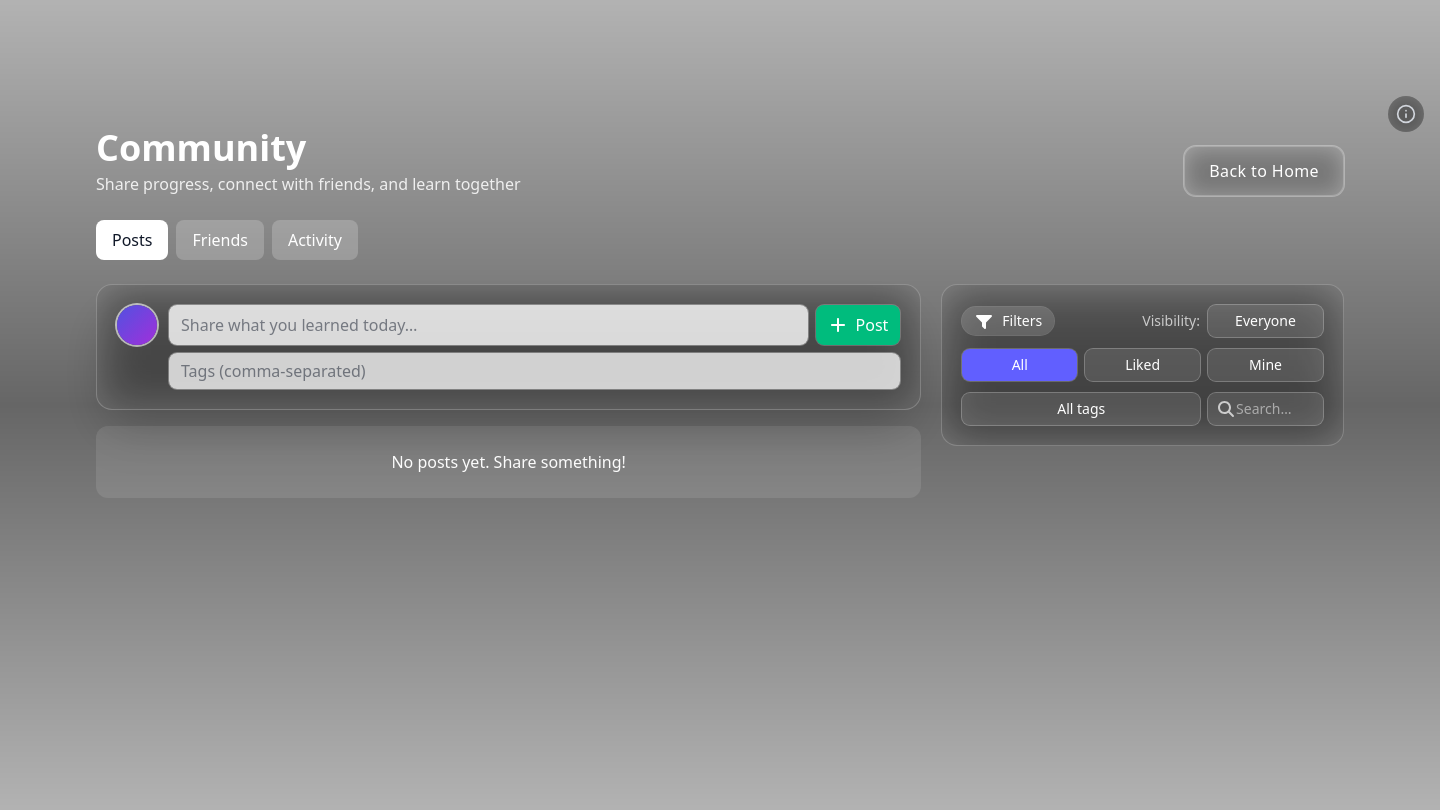
Test: CommunityPage › switches to Activity tab when clicked
What coordinates should you click on to do the following:
click the button "Activity"
I would click on:
 (315, 240)
Its box is left=272, top=220, right=358, bottom=260.
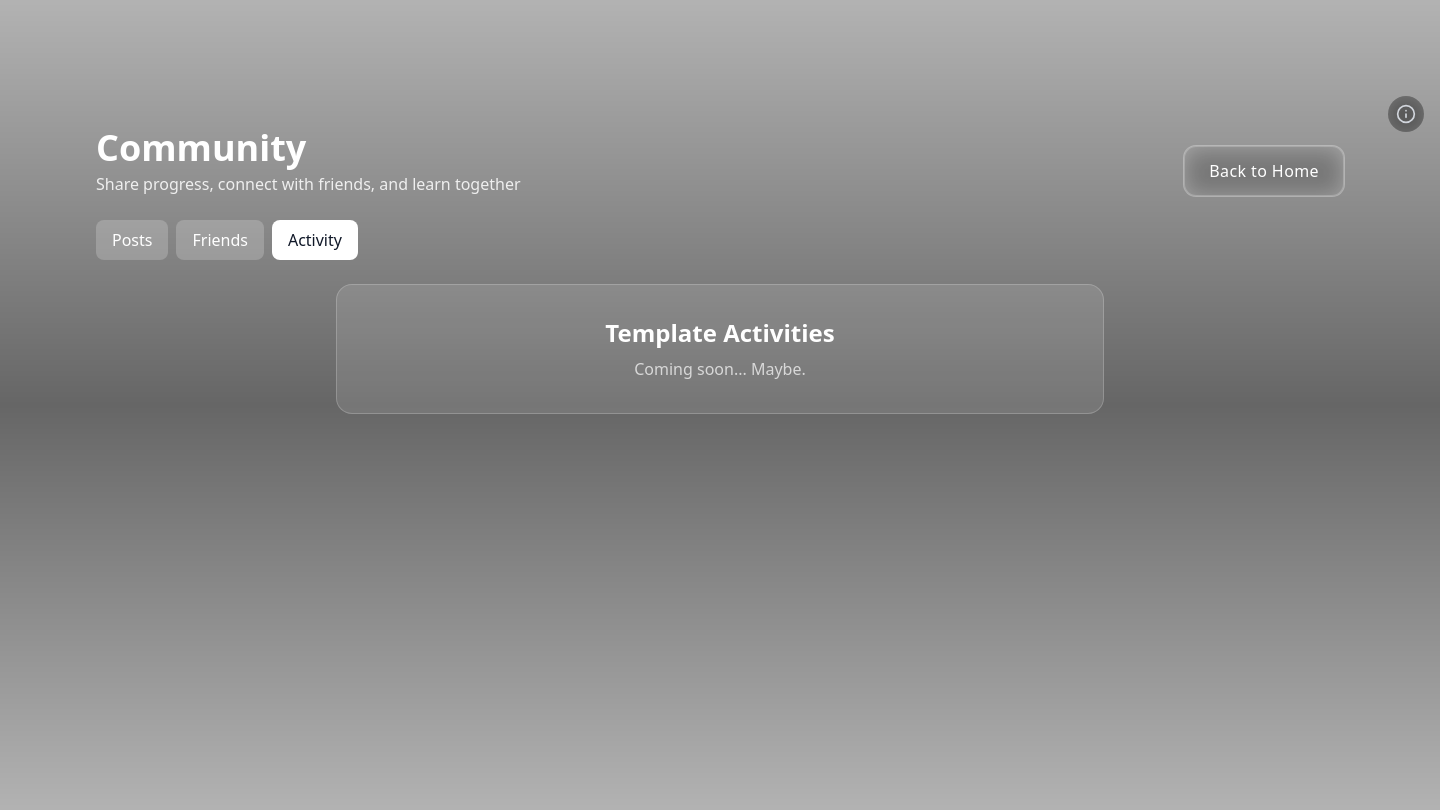
expect the heading "Template Activities" is shown: met, box left=605, top=316, right=835, bottom=349
expect the text "Coming soon... Maybe." is shown: met, box left=634, top=358, right=806, bottom=380
